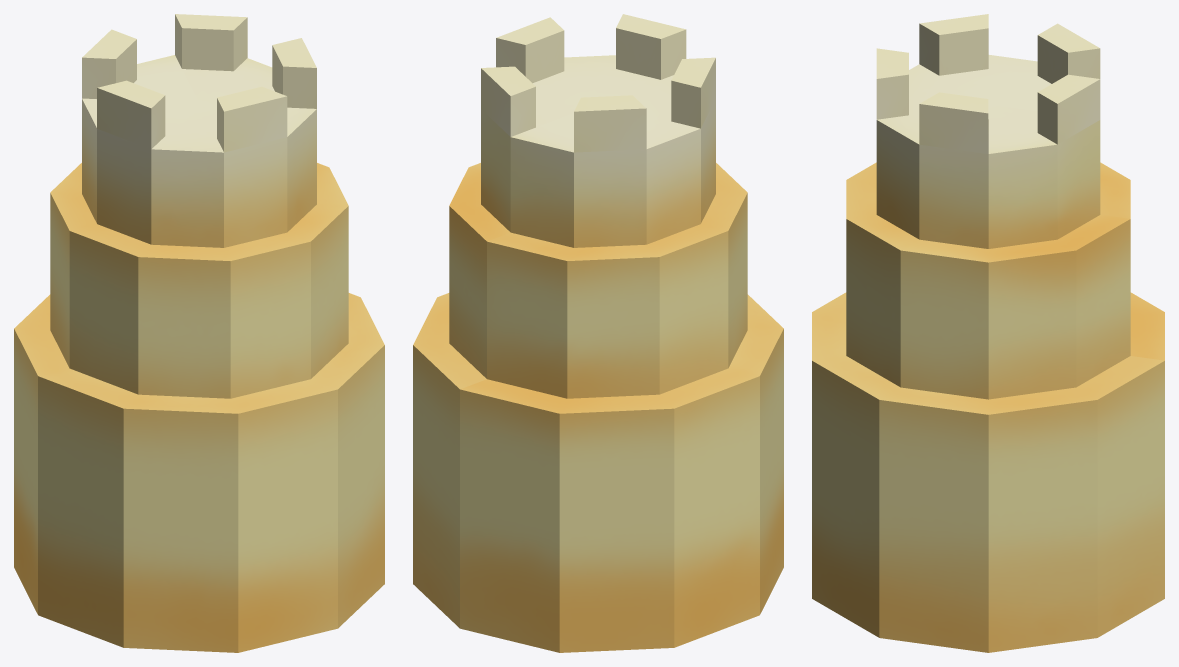
File: autelseashellA.fbx
The picture shows the model from 3 angles, left to right: view 1: azimuth 30°, elevation 25°; view 2: azimuth 150°, elevation 25°; view 3: azimuth 270°, elevation 25°; orthographic projection.
Visible parts, largest first — view 1: autelA:mesh_autelSeashellA; view 2: autelA:mesh_autelSeashellA; view 3: autelA:mesh_autelSeashellA.
Boxes of the visible parts, bbox=[...] form: autelA:mesh_autelSeashellA: bbox=[14, 14, 384, 652]; autelA:mesh_autelSeashellA: bbox=[413, 14, 783, 652]; autelA:mesh_autelSeashellA: bbox=[812, 14, 1164, 652].
Bounding box in the file's own units: 2.1 × 3.18 × 1.99.
